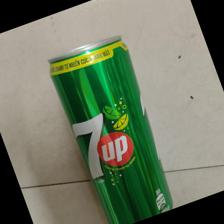7up: (45, 34, 177, 224)
